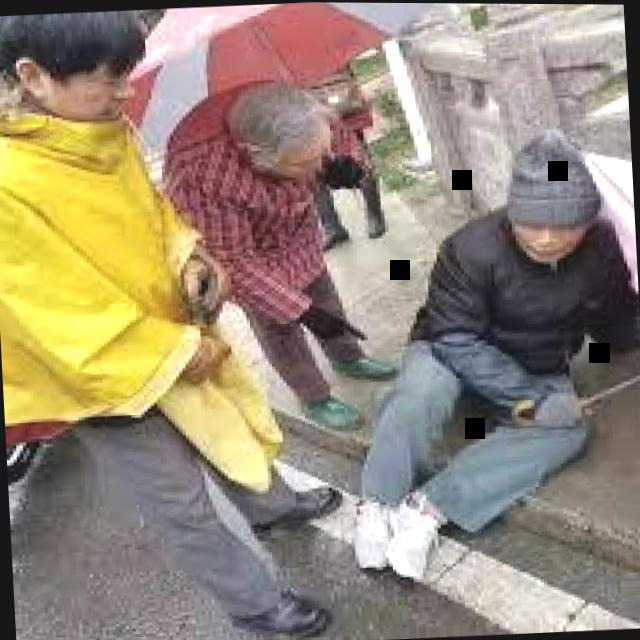Fall-Detected: (306, 122, 640, 544)
